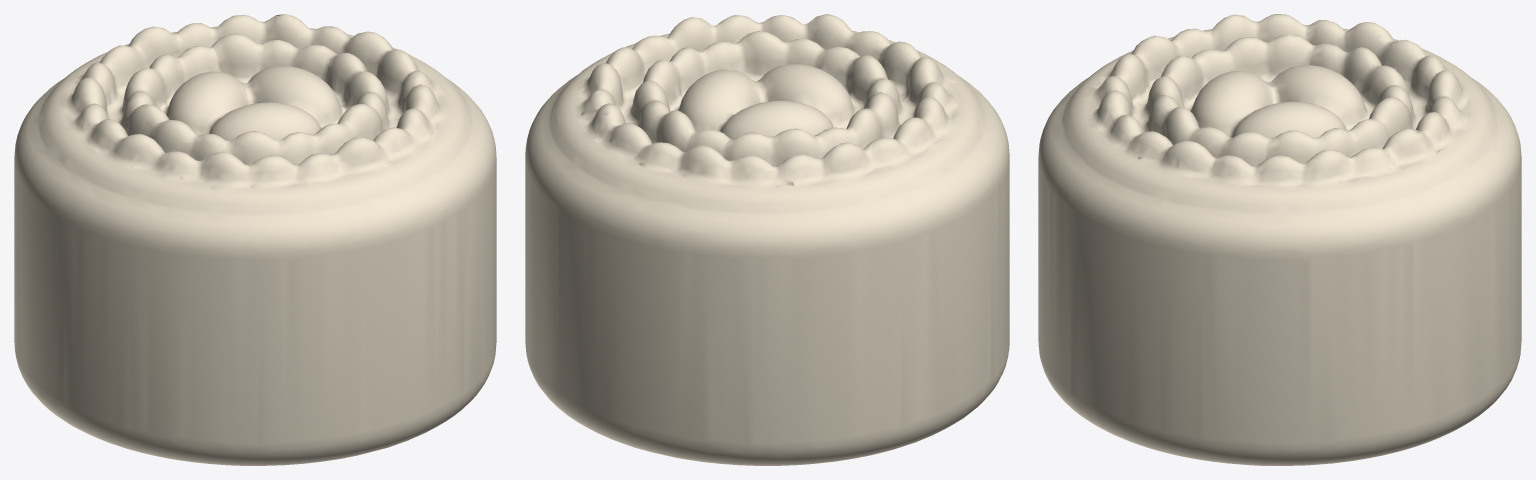
The model's file is SushiBase.glb.
The picture shows the model from 3 angles, left to right: view 1: azimuth 30°, elevation 25°; view 2: azimuth 150°, elevation 25°; view 3: azimuth 270°, elevation 25°; orthographic projection.
Visible parts, largest first — view 1: SushiBase; view 2: SushiBase; view 3: SushiBase.
Part boxes in pixels (<box>): SushiBase: <box>14,14,496,465</box>; SushiBase: <box>525,14,1009,465</box>; SushiBase: <box>1038,14,1521,465</box>.
Bounding box in the file's own units: 2 × 1.34 × 2.
